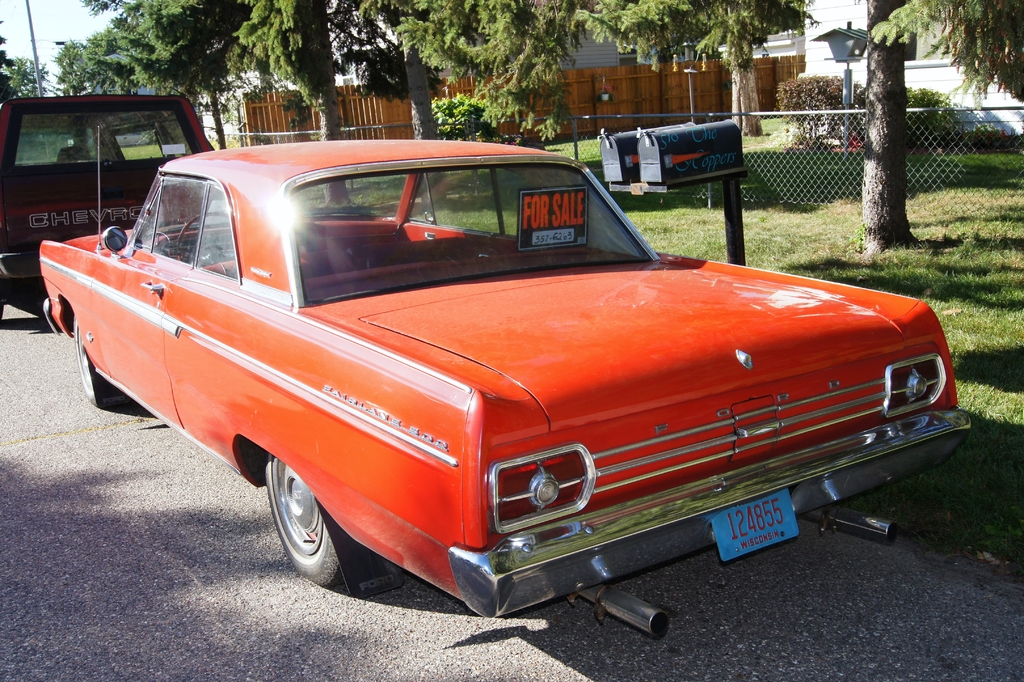Car: (39, 126, 969, 639), (0, 87, 215, 322)
